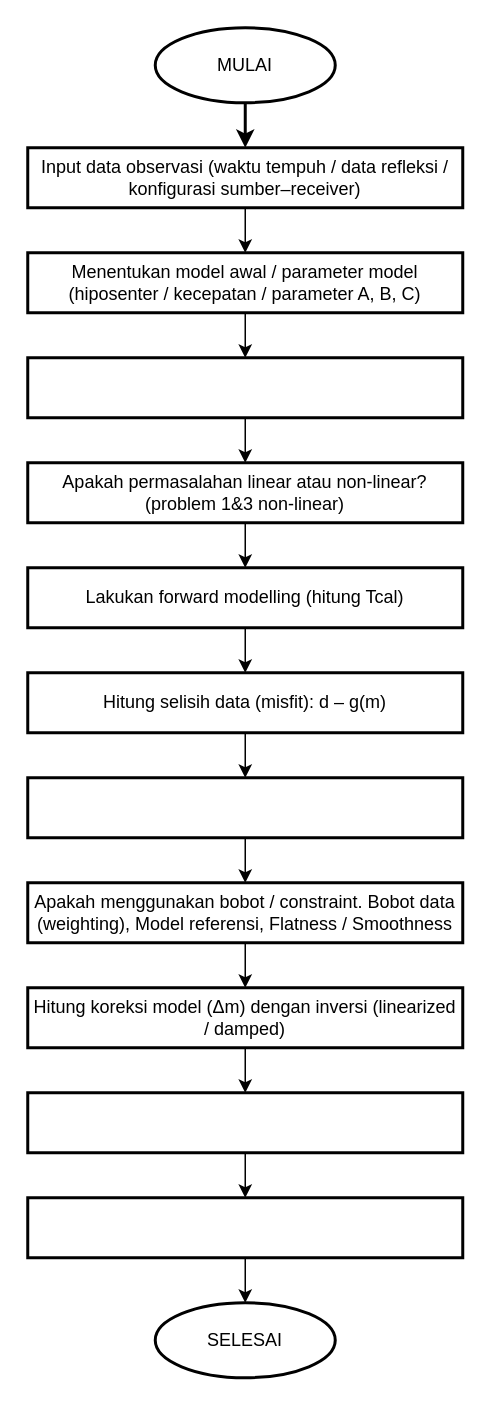
The diagram is 489 pixels wide and 1404 high, and some of its shapes have lost their labels. Each missing label, with the centre of its shape:
"Hitung error (RMS)" belongs at [245,1227].
"Hitung matriks Jacobian (G)" belongs at [245,807].
"Menyusun hubungan data dan model: d = Gm" belongs at [245,387].
"Update model: m = m + Δm" belongs at [245,1122].
